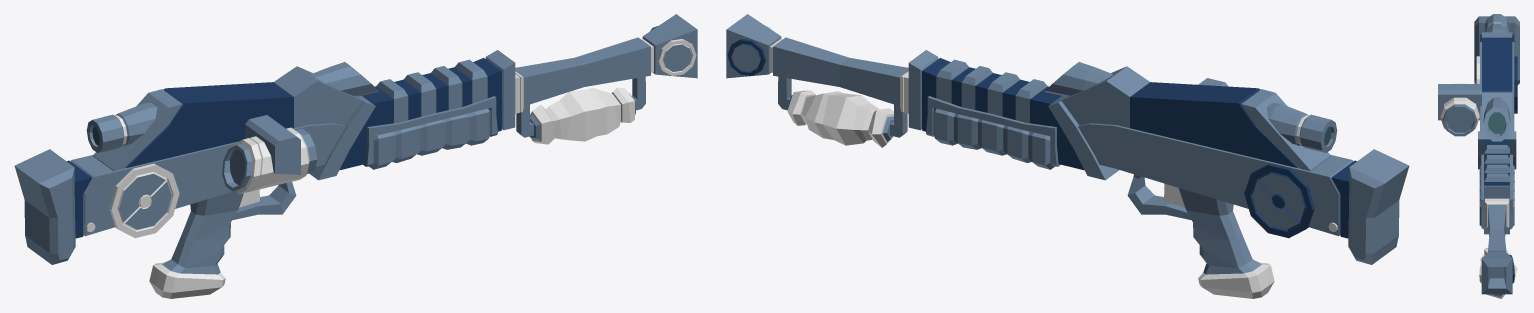
Rendered from Heavy_machine_gun_01_Blue_Team.fbx.
The picture shows the model from 3 angles, left to right: view 1: azimuth 30°, elevation 25°; view 2: azimuth 150°, elevation 25°; view 3: azimuth 270°, elevation 25°; orthographic projection. The views are drawn at different scales.
Parts seen in each view (by area): view 1: Heavy_machine_gun_01_Blue_Team; view 2: Heavy_machine_gun_01_Blue_Team; view 3: Heavy_machine_gun_01_Blue_Team.
Part boxes in pixels (<box>): Heavy_machine_gun_01_Blue_Team: <box>14,14,697,298</box>; Heavy_machine_gun_01_Blue_Team: <box>726,14,1409,298</box>; Heavy_machine_gun_01_Blue_Team: <box>1438,14,1519,298</box>.
Size of the model in its own units: 86.74 by 25.21 by 12.61.
Materials: 1 (1 with a texture image).
